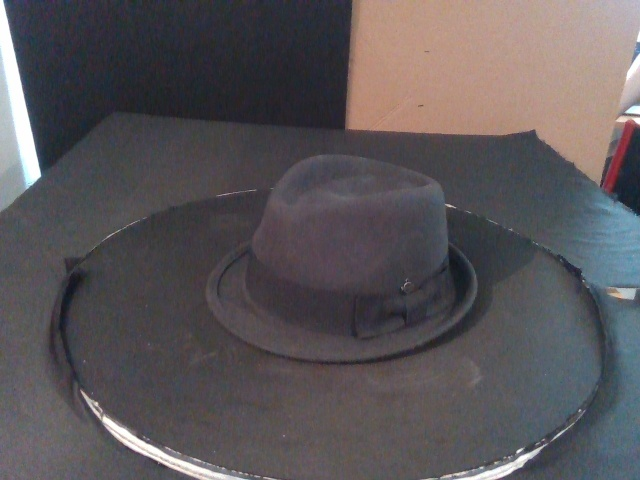hat: (204, 155, 478, 361)
